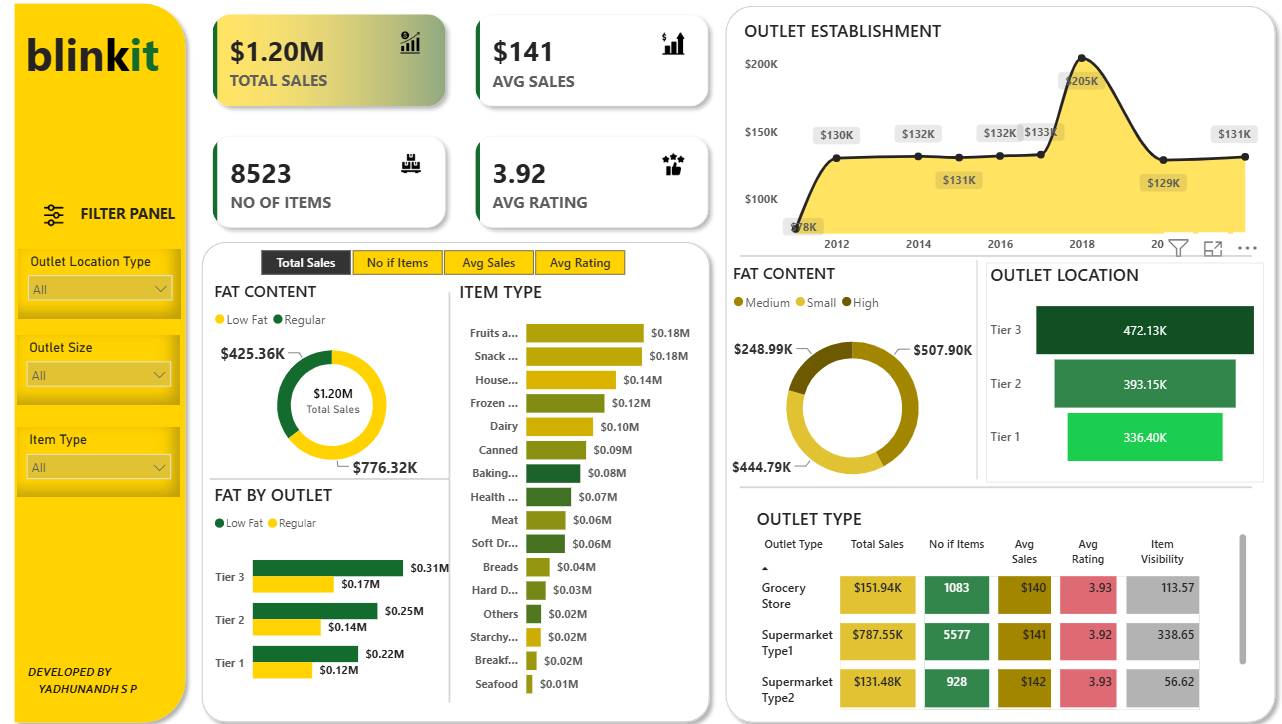

Layout of this report page (visuals, bound fields, positions):
{"tool":"powerbi","page":{"name":"Page 1","canvas":[1400,800],"ordinal":0},"visuals":[{"type":"shape","box":[10.5,0,204.1,800],"z":0},{"type":"textbox","box":[27.1,25.7,170,82.9],"z":1000},{"type":"cardVisual","fields":{"Data":["BlinkIT Grocery Data.Total Sales","BlinkIT Grocery Data.Avg Sales","BlinkIT Grocery Data.No if Items","BlinkIT Grocery Data.Avg Rating"]},"box":[214.3,0,581.4,275.7],"z":2000},{"type":"shape","box":[214.3,260,570,540],"z":2001},{"type":"donutChart","title":"FAT CONTENT","fields":{"Category":["BlinkIT Grocery Data.Item Fat Content"],"Y":["BlinkIT Grocery Data.Total Sales"]},"box":[232.9,310,265.7,220],"z":2002},{"type":"slicer","fields":{"Values":["Parameter.Parameter"]},"box":[262.9,270,445.7,40],"z":2003},{"type":"cardVisual","fields":{"Data":["BlinkIT Grocery Data.Total Sales"]},"box":[302.9,400,127.1,81.4],"z":2004},{"type":"clusteredBarChart","title":"FAT BY OUTLET","fields":{"Series":["BlinkIT Grocery Data.Item Fat Content"],"Y":["BlinkIT Grocery Data.Total Sales"],"Category":["BlinkIT Grocery Data.Outlet Location Type"]},"box":[232.5,530,266.2,238.8],"z":2005},{"type":"barChart","title":"ITEM TYPE","fields":{"Category":["BlinkIT Grocery Data.Item Type"],"Y":["BlinkIT Grocery Data.Total Sales"]},"box":[498.8,310,261.2,465],"z":2006},{"type":"textbox","box":[30,721.4,155.7,78.6],"z":2008},{"type":"shape","box":[784.3,2.9,615.7,797.1],"z":2009},{"type":"lineChart","title":"OUTLET ESTABLISHMENT","fields":{"Y":["BlinkIT Grocery Data.Total Sales"],"Category":["BlinkIT Grocery Data.Outlet Establishment Year"]},"box":[808.6,25.7,568.6,262.9],"z":2010},{"type":"donutChart","title":"FAT CONTENT","fields":{"Y":["BlinkIT Grocery Data.Total Sales"],"Category":["BlinkIT Grocery Data.Outlet Size"]},"box":[795.7,291.4,270,264.3],"z":2011},{"type":"funnel","title":"OUTLET LOCATION","fields":{"Y":["Sum(BlinkIT Grocery Data.Sales)"],"Category":["BlinkIT Grocery Data.Outlet Location Type"]},"box":[1075.7,291.4,301.4,238.6],"z":2012},{"type":"shape","box":[808.6,275.7,557.1,15.7],"z":2013},{"type":"shape","box":[1057.1,288.6,18.6,238.6],"z":2014},{"type":"shape","box":[232.9,521.4,260,8.6],"z":2015},{"type":"shape","box":[444.3,322.9,97.1,445.7],"z":2016},{"type":"shape","box":[808.6,527.1,557.1,15.7],"z":2017},{"type":"pivotTable","title":"OUTLET TYPE","fields":{"Rows":["BlinkIT Grocery Data.Outlet Type"],"Values":["BlinkIT Grocery Data.Total Sales","BlinkIT Grocery Data.No if Items","BlinkIT Grocery Data.Avg Sales","BlinkIT Grocery Data.Avg Rating","Sum(BlinkIT Grocery Data.Item Visibility)"]},"box":[821.4,555.7,542.9,225.7],"z":2018},{"type":"slicer","fields":{"Values":["BlinkIT Grocery Data.Outlet Location Type"]},"box":[24.3,275.7,177.1,75.7],"z":2019},{"type":"slicer","fields":{"Values":["BlinkIT Grocery Data.Outlet Size"]},"box":[22.9,370,177.1,75.7],"z":2020},{"type":"slicer","fields":{"Values":["BlinkIT Grocery Data.Item Type"]},"box":[22.9,470,177.1,75.7],"z":2021},{"type":"textbox","box":[87.1,221.4,114.3,54.3],"z":2022},{"type":"image","box":[0,217.1,125.7,44],"z":2023}]}

Visuals, with their boxes in screenshot pixels (x1, y1, x2, y2), scaled from the page's 1400x800 canvas onto the 1282x724 screenshot:
shape: box(10, 0, 197, 723)
textbox: box(25, 23, 180, 98)
cardVisual - BlinkIT Grocery Data.Total Sales x BlinkIT Grocery Data.Avg Sales: box(196, 0, 729, 250)
shape: box(196, 235, 718, 723)
"FAT CONTENT" donutChart: box(213, 281, 457, 480)
slicer - Parameter.Parameter: box(241, 244, 649, 281)
cardVisual - BlinkIT Grocery Data.Total Sales: box(277, 362, 394, 436)
"FAT BY OUTLET" clusteredBarChart: box(213, 480, 457, 696)
"ITEM TYPE" barChart: box(457, 281, 696, 701)
textbox: box(27, 653, 170, 723)
shape: box(718, 3, 1281, 723)
"OUTLET ESTABLISHMENT" lineChart: box(740, 23, 1261, 261)
"FAT CONTENT" donutChart: box(729, 264, 976, 503)
"OUTLET LOCATION" funnel: box(985, 264, 1261, 480)
shape: box(740, 250, 1251, 264)
shape: box(968, 261, 985, 477)
shape: box(213, 472, 451, 480)
shape: box(407, 292, 496, 696)
shape: box(740, 477, 1251, 491)
"OUTLET TYPE" pivotTable: box(752, 503, 1249, 707)
slicer - BlinkIT Grocery Data.Outlet Location Type: box(22, 250, 184, 318)
slicer - BlinkIT Grocery Data.Outlet Size: box(21, 335, 183, 403)
slicer - BlinkIT Grocery Data.Item Type: box(21, 425, 183, 494)
textbox: box(80, 200, 184, 250)
image: box(0, 196, 115, 236)
